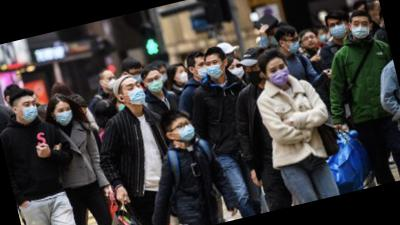with_mask: (121, 79, 149, 109), (265, 60, 293, 89), (173, 118, 198, 144), (17, 98, 41, 125), (349, 16, 373, 42), (204, 56, 226, 81), (53, 105, 75, 128), (327, 18, 349, 41), (243, 64, 264, 87), (144, 73, 165, 94), (227, 61, 247, 82), (285, 35, 303, 55), (102, 74, 120, 93), (193, 59, 209, 80), (129, 68, 147, 86), (174, 68, 191, 86), (316, 31, 328, 45)
without_mask: (301, 32, 319, 50)
